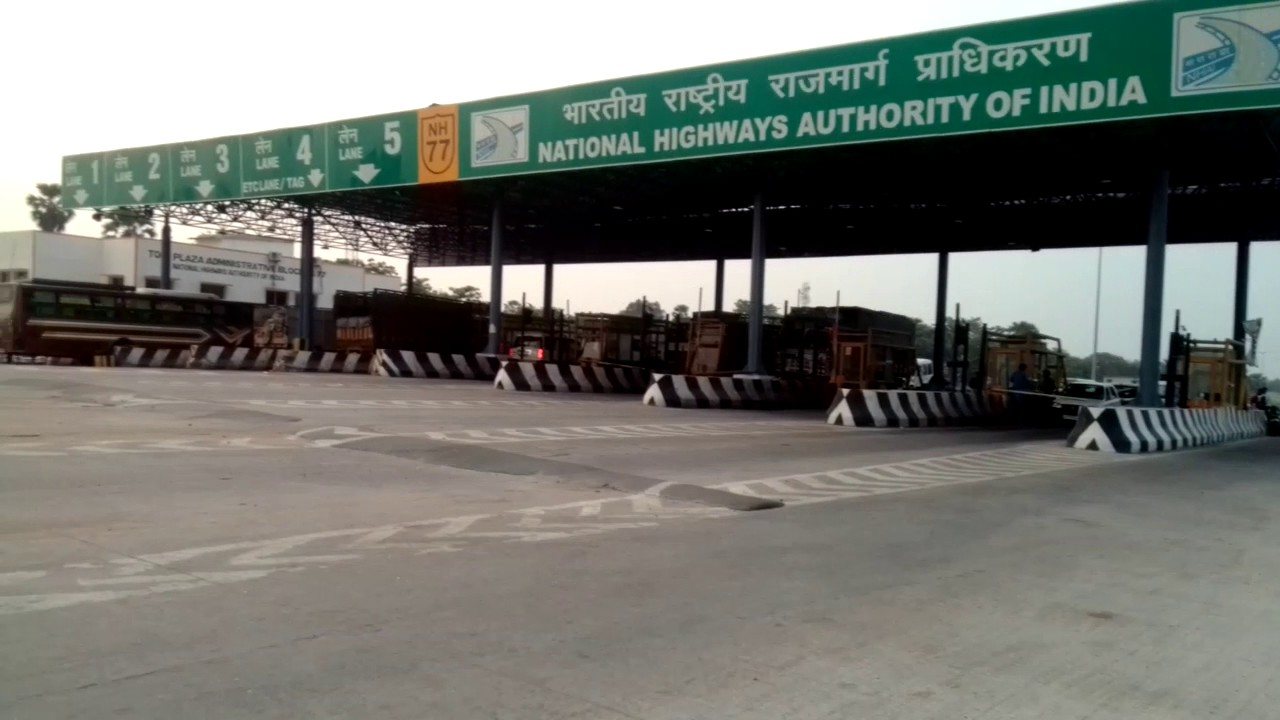toll plaza: (55, 6, 1280, 201)
